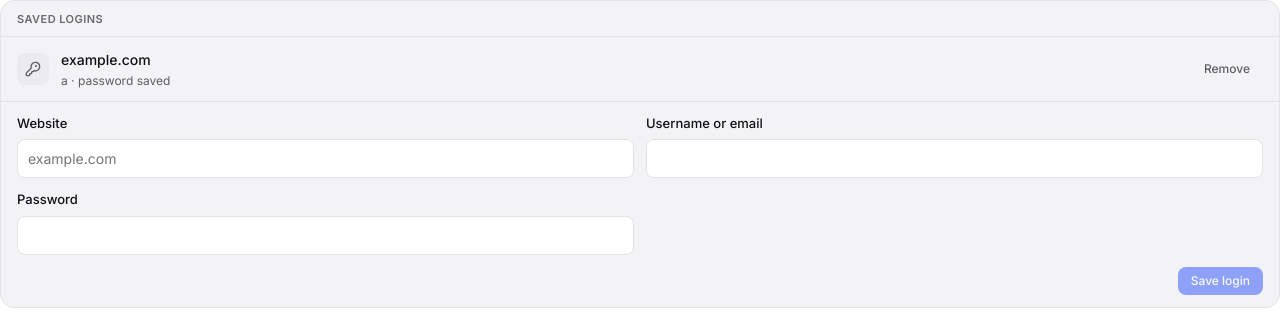
SavedLogins › asks before removing a login
Click the button with aria-label "Remove the login for": (1227, 69) [1191,55,1263,83]
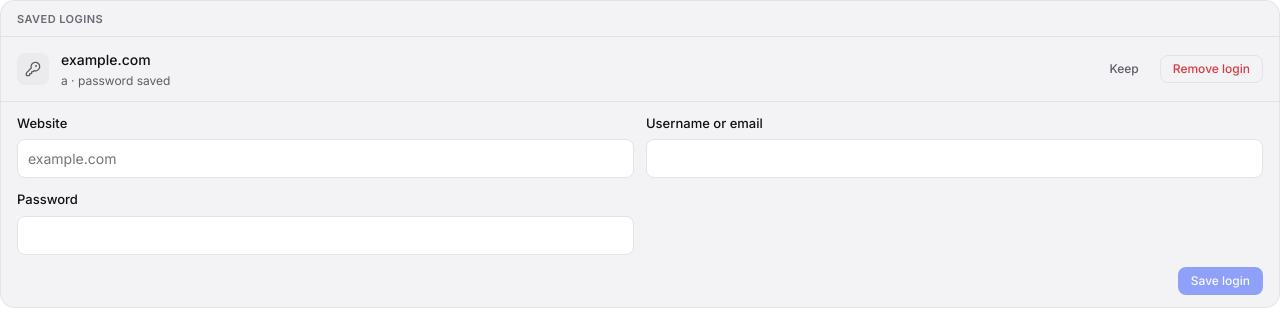
Click the button "Remove login": (1211, 69) [1160,55,1263,83]
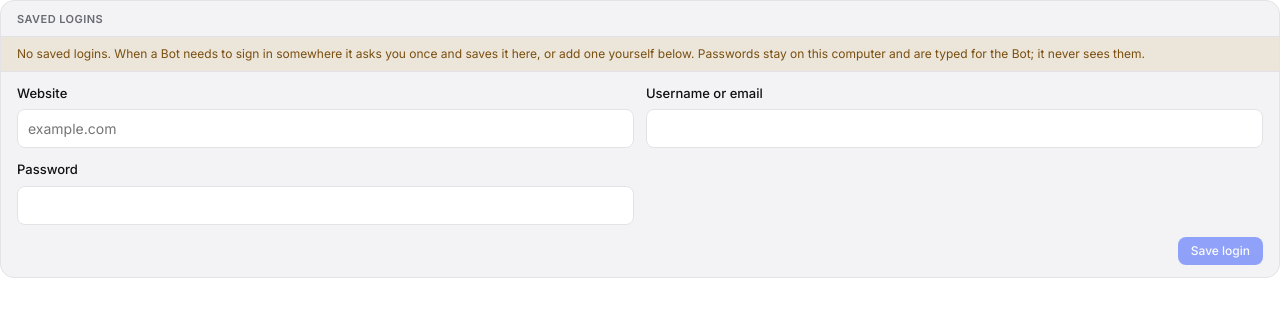
Check: the text "No saved logins" is shown, box [17,46,1145,60]
